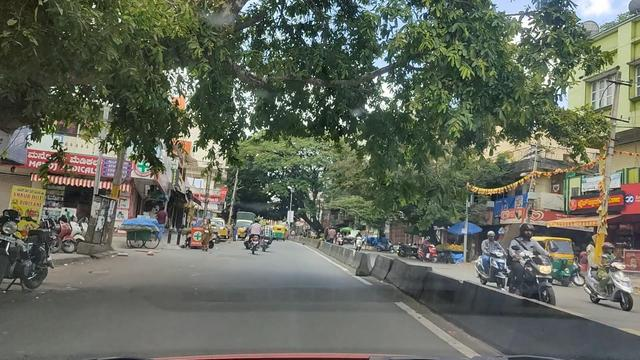LMV: (0, 206, 53, 288)
RoadDamages: (54, 277, 75, 300)
